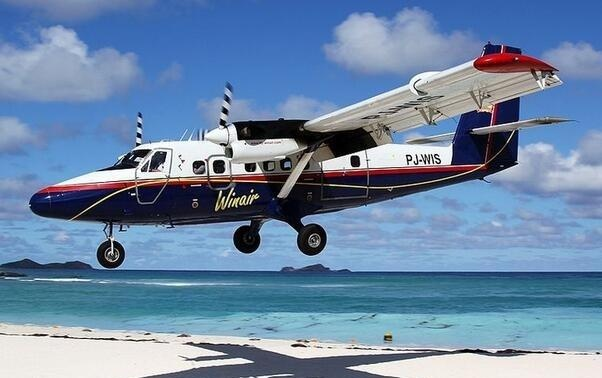airplane: (25, 43, 576, 274)
